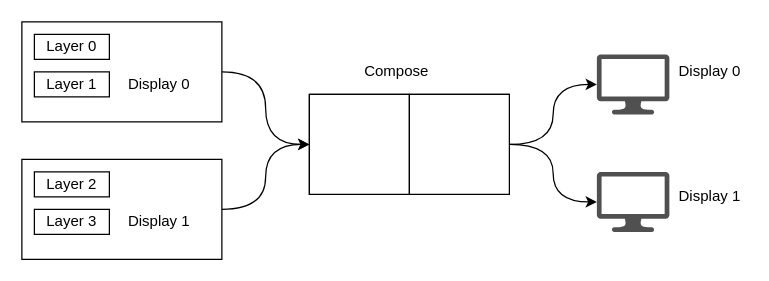
Some shapes in this 769 by 281 pixel diagram are drawn without their labels. The box of each missing label's shape, as (x1, y1, x2, y2) in pixels:
HWE: (408, 93, 509, 194)
Surface Flinger: (308, 93, 409, 194)
